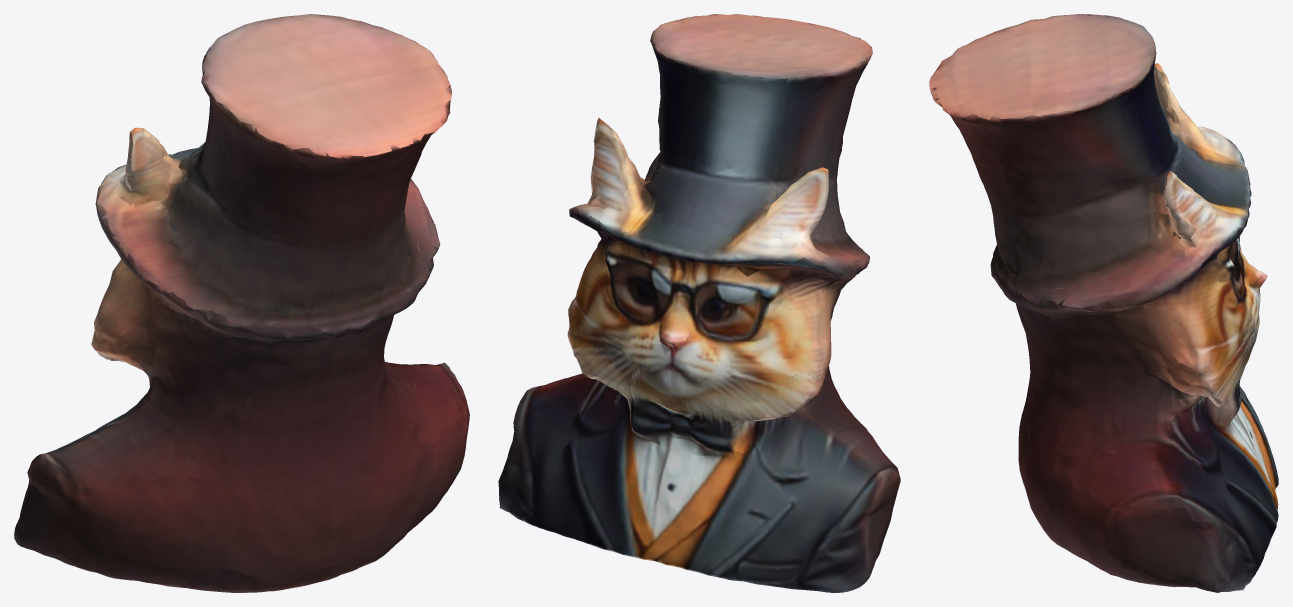
The model's file is cat with a top hat with sungla.glb.
3 renders of one model, left to right at view 1: azimuth 30°, elevation 25°; view 2: azimuth 150°, elevation 25°; view 3: azimuth 270°, elevation 25°, orthographic. The views are drawn at different scales.
Visible parts, largest first — view 1: world; view 2: world; view 3: world.
Boxes of the visible parts, left/top/right/bottom form: world: left=14, top=14, right=469, bottom=592; world: left=498, top=14, right=900, bottom=592; world: left=929, top=14, right=1278, bottom=592.
Size of the model in its own units: 0.7502 by 0.9096 by 0.5998.
Materials: 1 (1 with a texture image).
